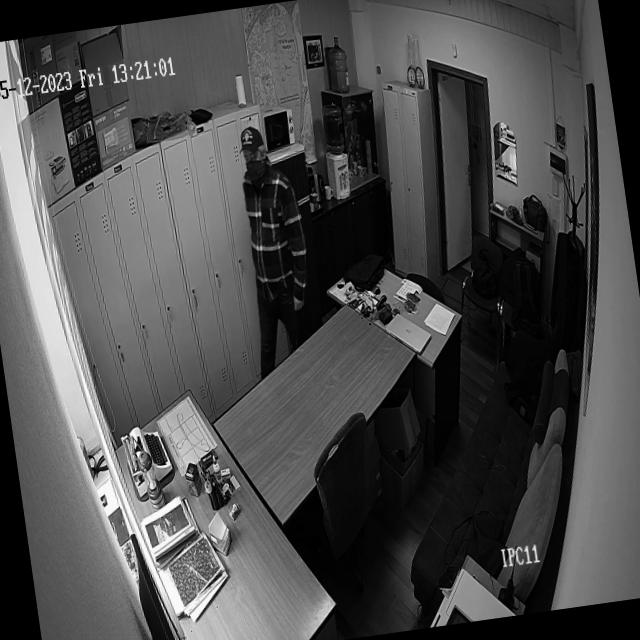person: (229, 108, 328, 370)
